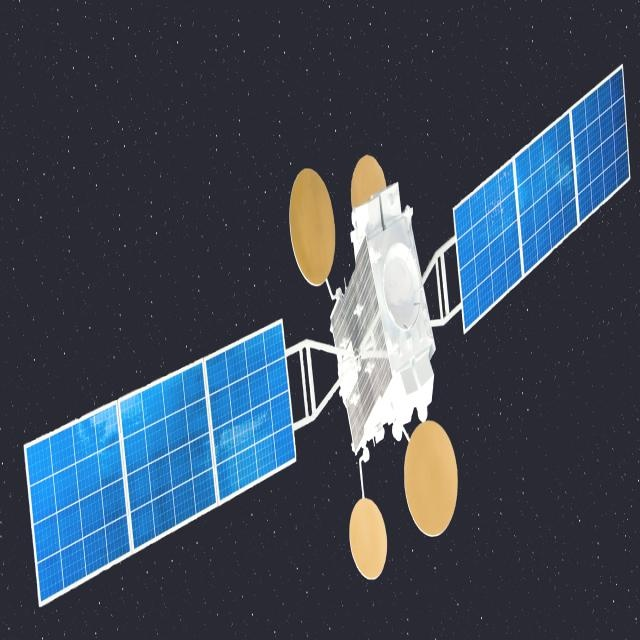medium_debris: (24, 68, 629, 615)
